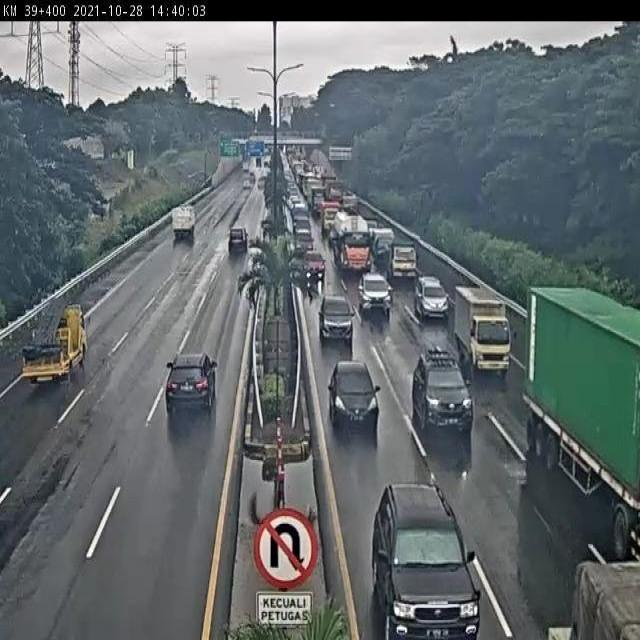big truck: (329, 209, 372, 276)
car: (371, 484, 480, 640), (410, 352, 474, 432), (327, 360, 379, 428), (165, 352, 220, 411), (318, 292, 356, 345), (409, 272, 448, 317), (358, 272, 391, 312), (371, 228, 396, 263), (302, 248, 326, 279), (226, 224, 248, 252)
small truck: (21, 300, 88, 385), (453, 288, 514, 376), (387, 242, 418, 282), (168, 204, 195, 243)
